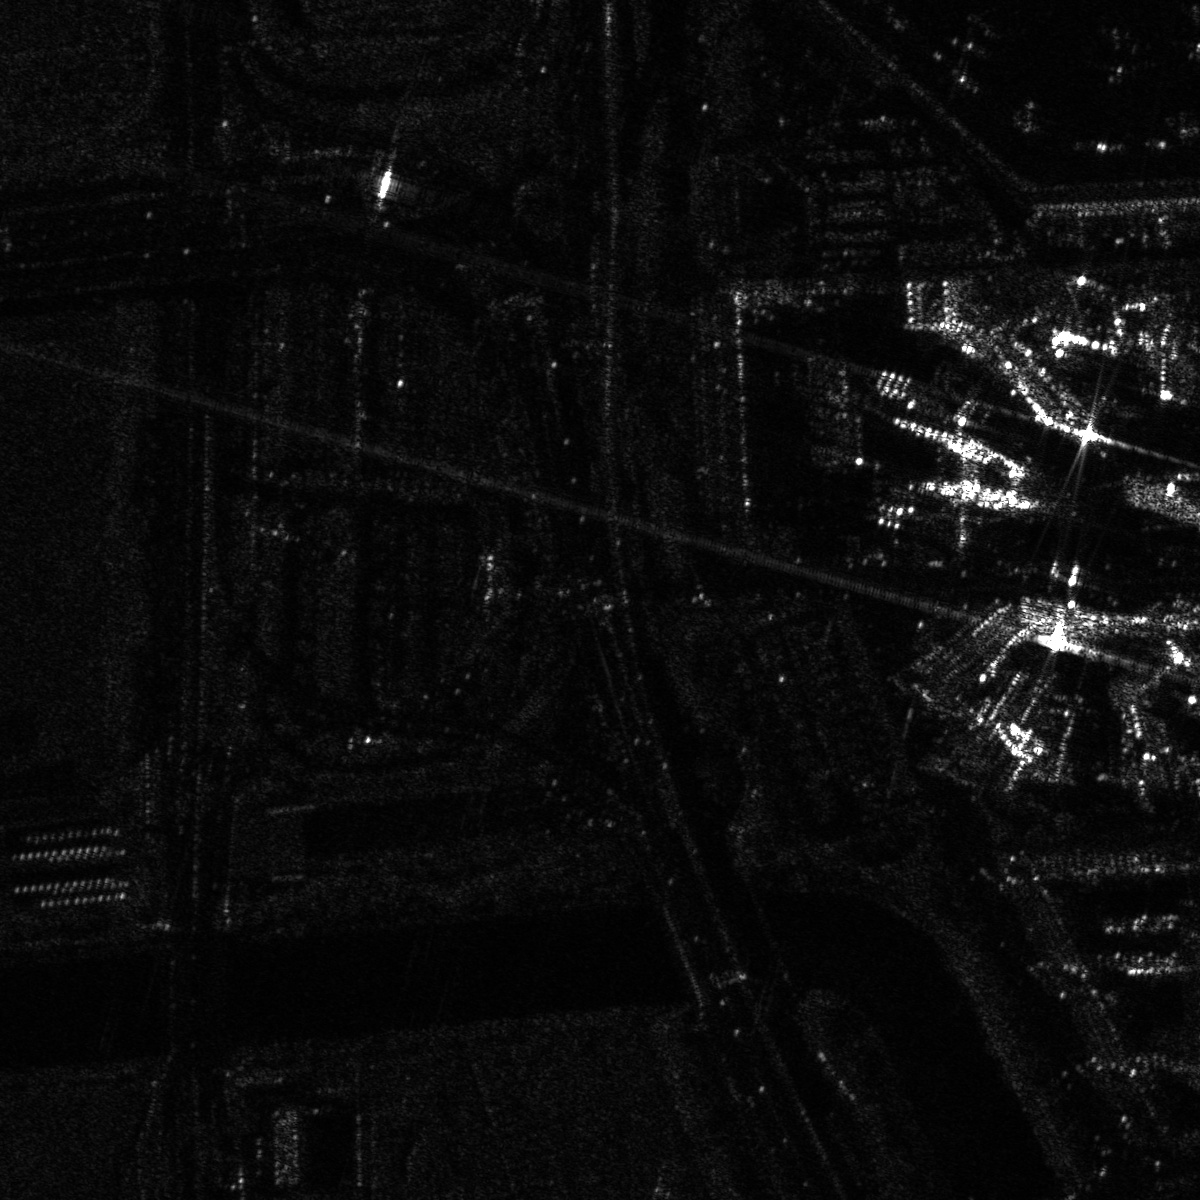Boeing737: (1067, 26, 1173, 90)
